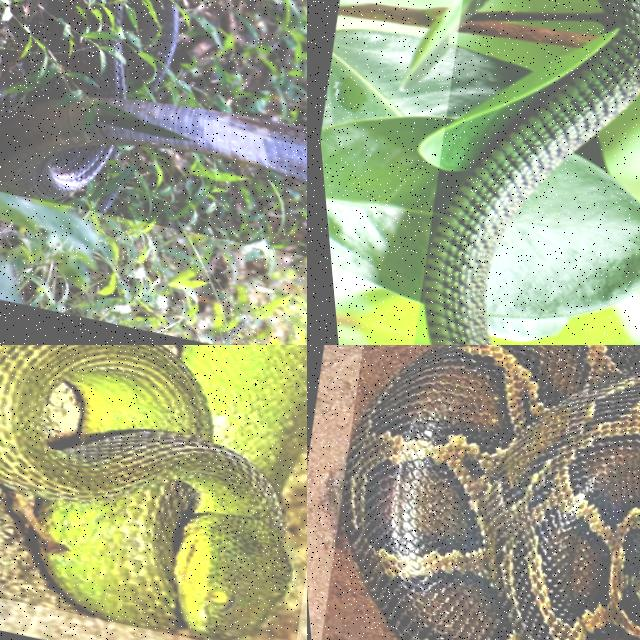Chrysopelea ornata: (422, 0, 639, 344)
Naja siamensis: (0, 31, 306, 198)
Python bivittatus: (344, 345, 639, 639)
Trimeresurus: (0, 345, 306, 639)
snake: (0, 345, 306, 639), (344, 345, 639, 639), (422, 0, 639, 344), (0, 31, 306, 198)
